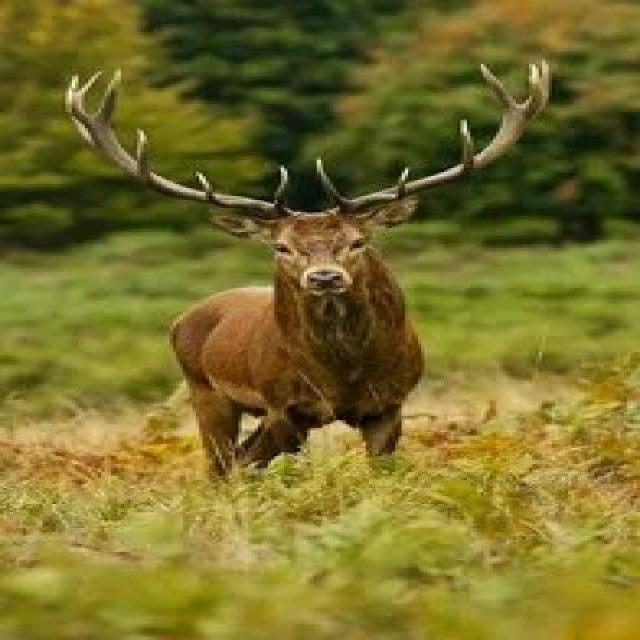deer: (15, 47, 597, 497)
